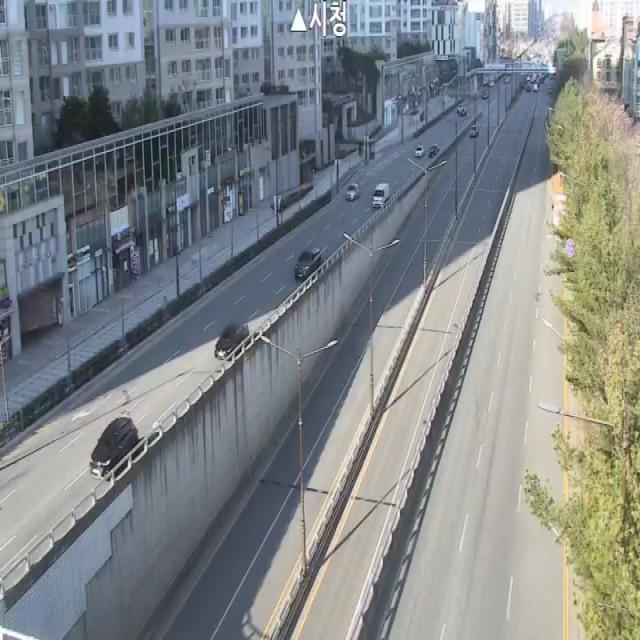Car: (90, 417, 139, 479), (214, 321, 249, 362), (294, 248, 322, 282), (373, 182, 389, 209), (345, 184, 359, 201), (428, 144, 439, 158), (469, 124, 478, 138), (415, 146, 425, 158)
